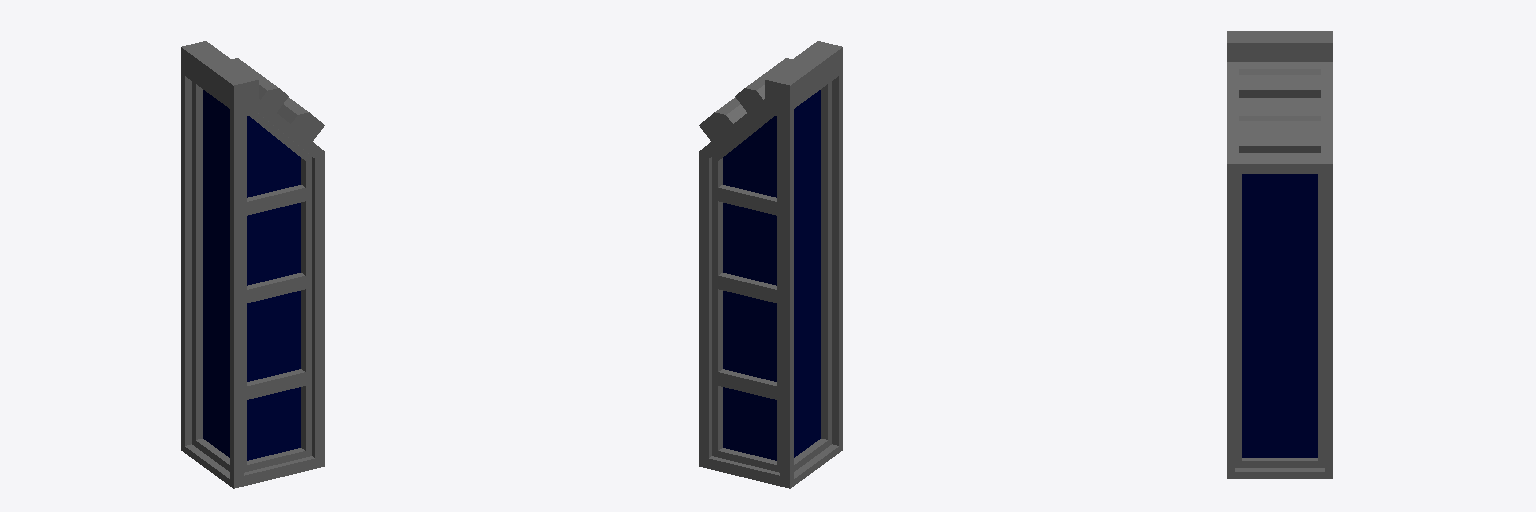
The model's file is Skyscraper.obj.
3 views of the same model, side by side, from view 1: azimuth 30°, elevation 25°; view 2: azimuth 150°, elevation 25°; view 3: azimuth 270°, elevation 25° (orthographic).
Parts seen in each view (by area): view 1: Box001; view 2: Box001; view 3: Box001.
Boxes of the visible parts, x1=… form: Box001: x1=181, y1=41, x2=324, y2=488; Box001: x1=699, y1=41, x2=842, y2=488; Box001: x1=1227, y1=31, x2=1332, y2=478.
Size of the model in its own units: 53.16 by 210 by 50.